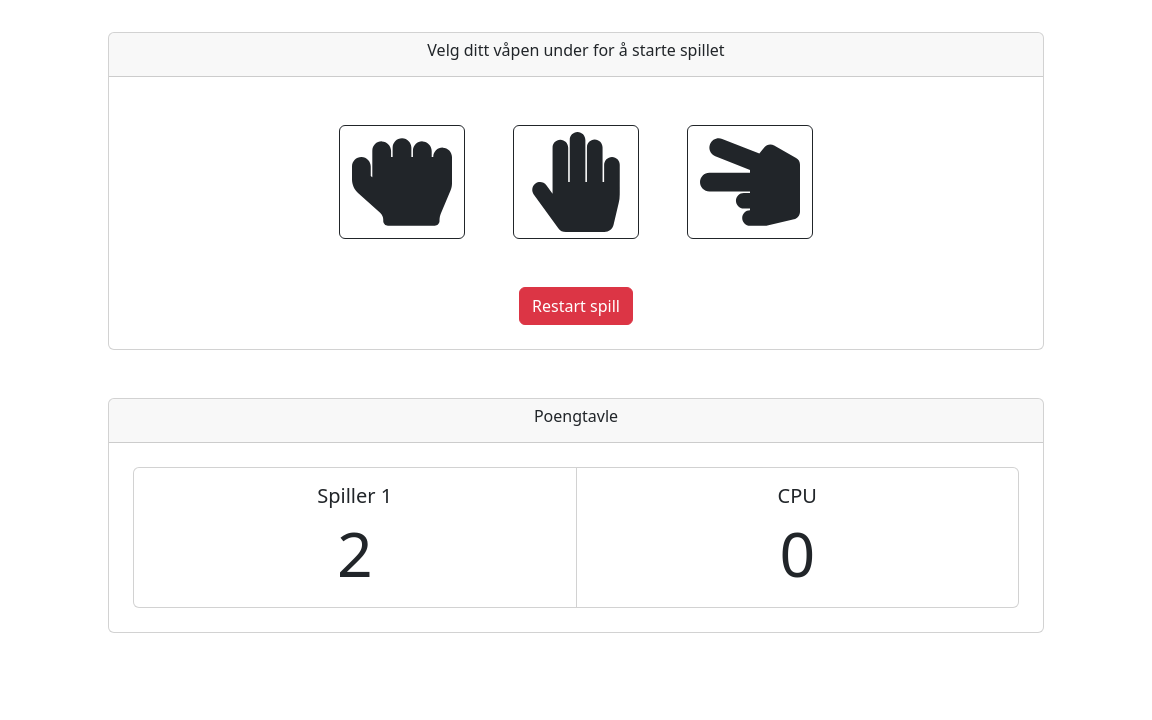
Sjekk at "Motstander valgte" er synlig når vi velger et våpen › Sjekk at "Motstander valgte" er synlig hvis vi klikker papir
The width and height of the screenshot is (1152, 720).
Click the button named "papir".
click(576, 182)  # box [513,125,639,239]
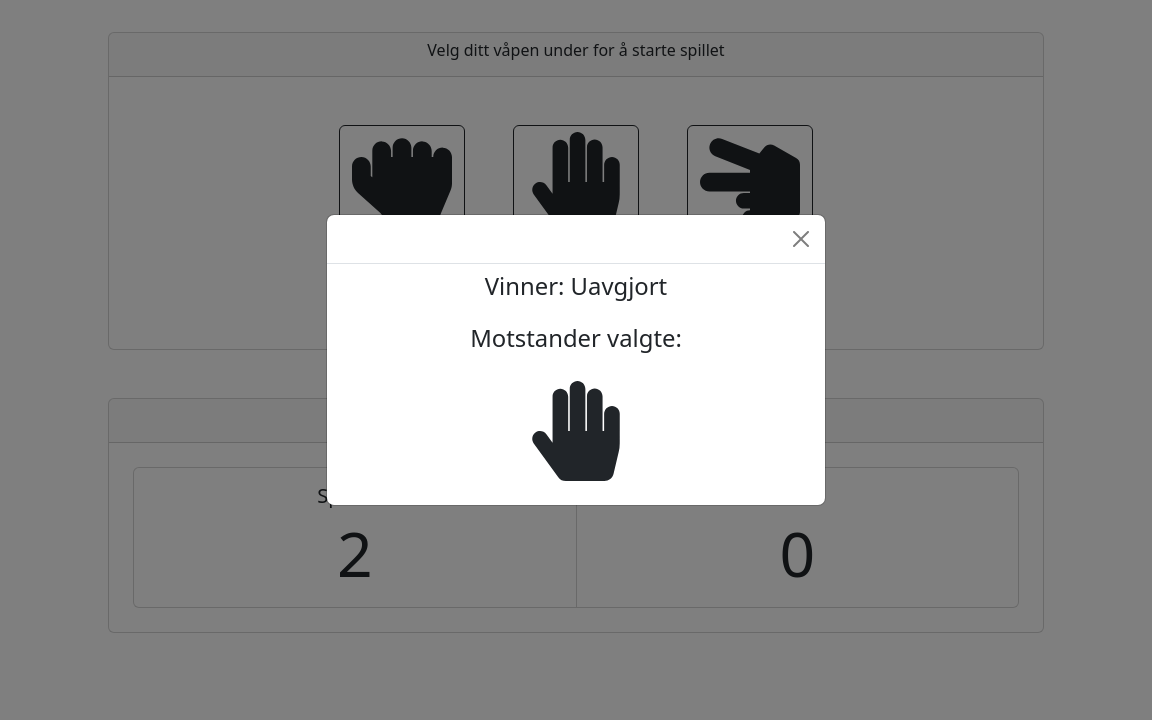
Expected: the heading "Motstander valgte:" is shown, [470,322,682,482]
